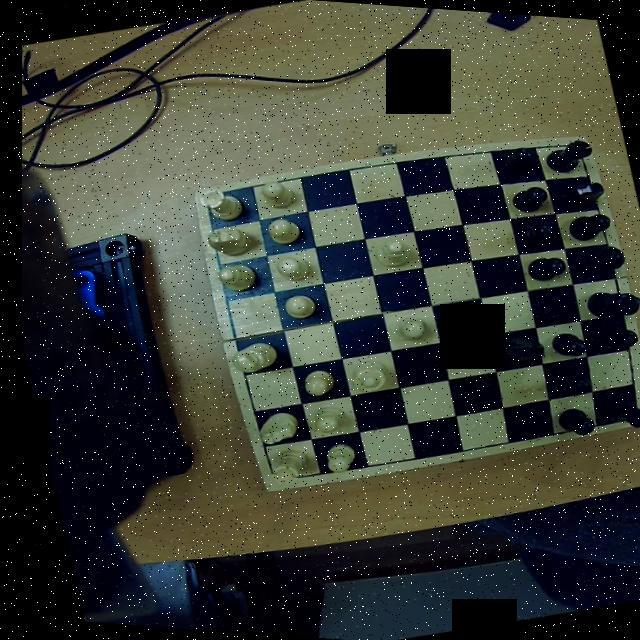chess-table-corners: (192, 184, 224, 212), (254, 463, 282, 490), (563, 136, 590, 160), (613, 404, 640, 428)
